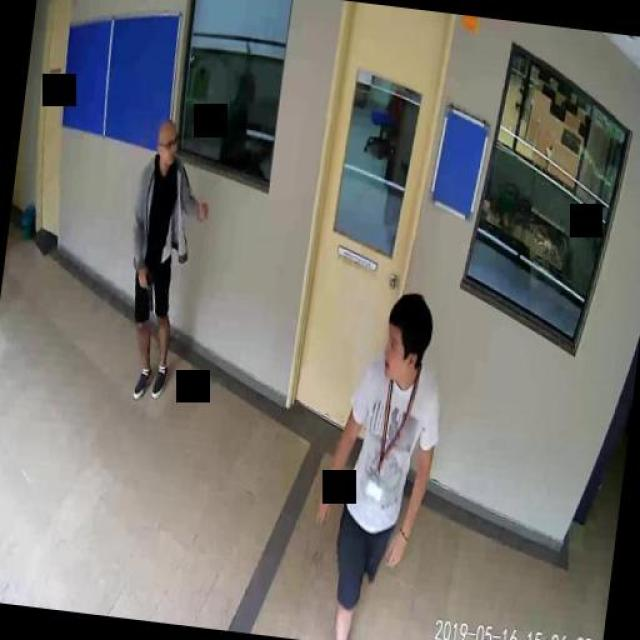gun: (134, 269, 156, 311)
